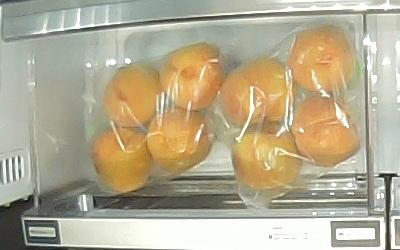peach_vinyl: (220, 58, 294, 129), (292, 93, 361, 165), (158, 41, 224, 110), (231, 125, 302, 188), (288, 27, 354, 94), (146, 110, 211, 173), (92, 126, 150, 193), (103, 64, 159, 127)
